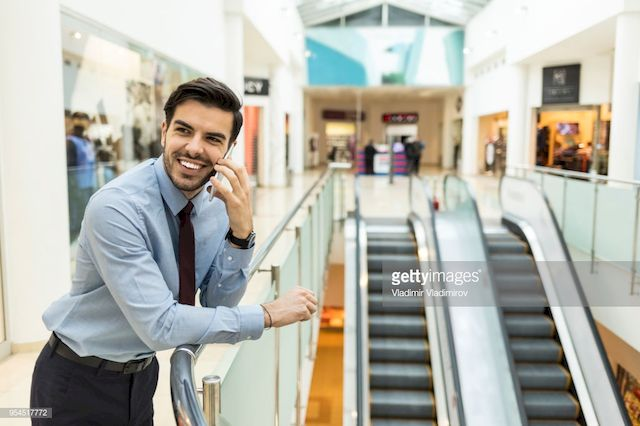phone: (217, 140, 244, 204)
talk: (166, 117, 253, 217)
